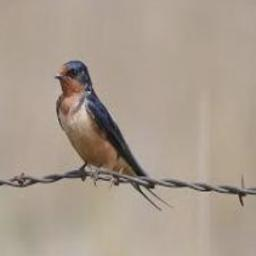Swallow: (53, 61, 173, 209)
